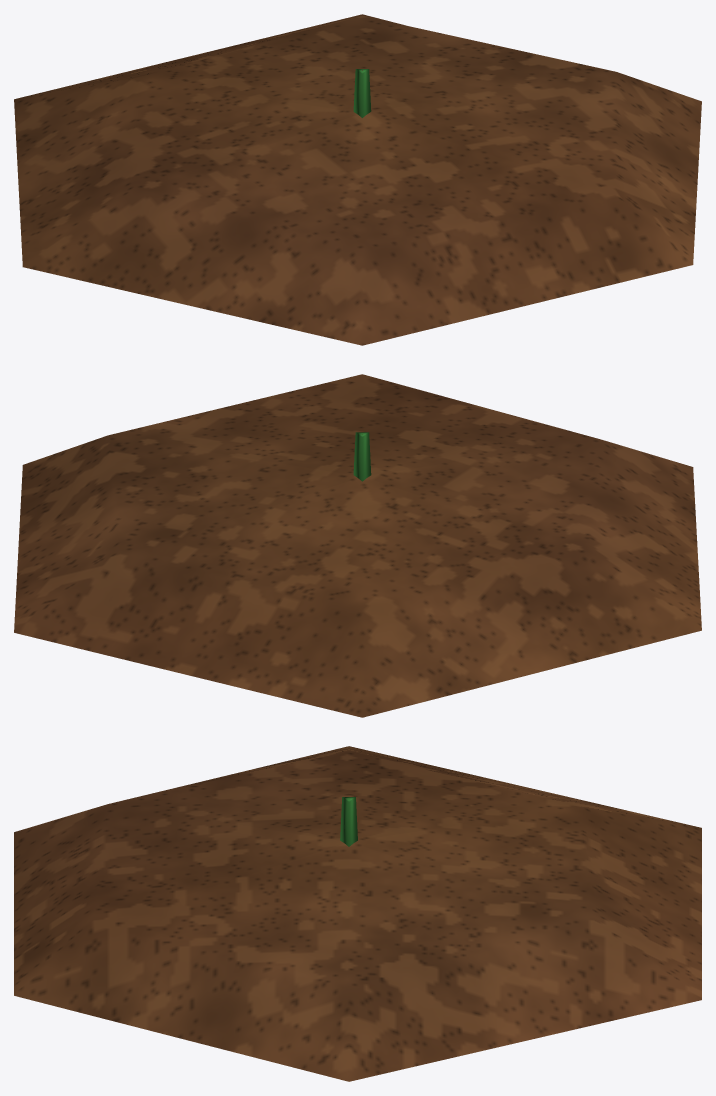
File: plant-mango-0-far.glb
The picture shows the model from 3 angles, top to bottom: view 1: azimuth 30°, elevation 25°; view 2: azimuth 150°, elevation 25°; view 3: azimuth 270°, elevation 25°; orthographic projection.
Parts seen in each view (by area): view 1: plant-mango-0-far; view 2: plant-mango-0-far; view 3: plant-mango-0-far.
Part boxes in pixels (x1,y1,x2,y2): plant-mango-0-far: [14, 14, 701, 345]; plant-mango-0-far: [14, 374, 701, 717]; plant-mango-0-far: [14, 746, 701, 1081].
Size of the model in its own units: 1 by 0.16 by 0.866.
Materials: 2 (1 with a texture image).
